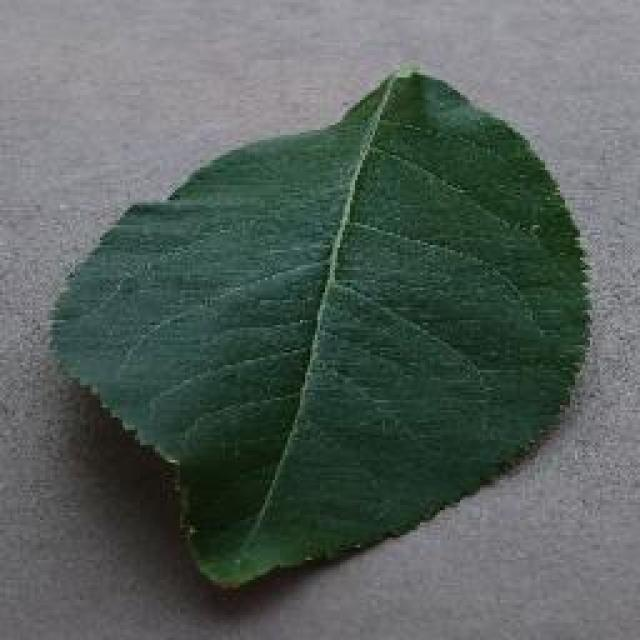apple healthy: (45, 60, 595, 592)
